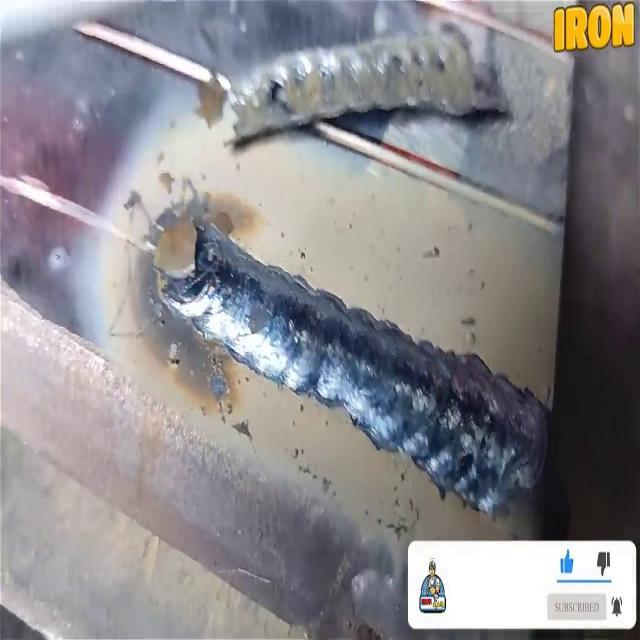Good Weld: (246, 262, 516, 504)
